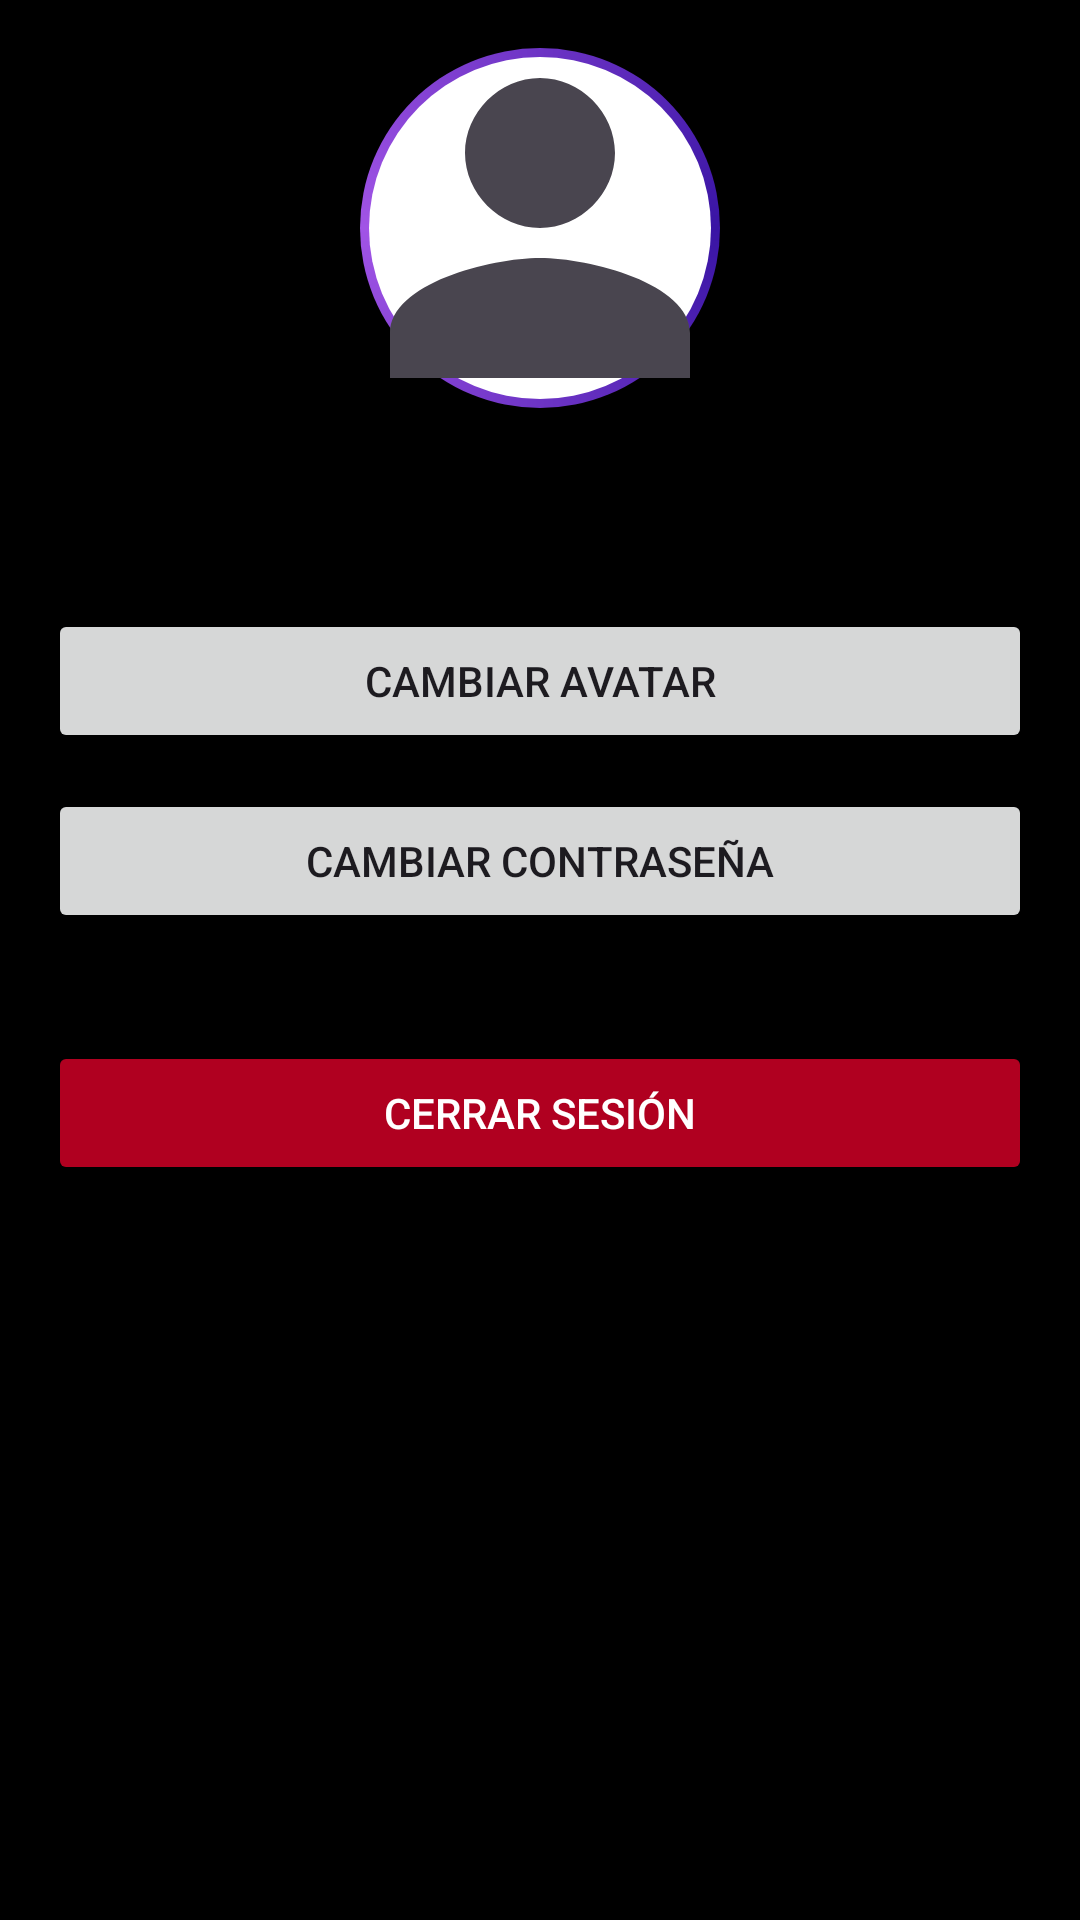

Named icons in this screenshot (1080×1920) and their centers, [x,y]:
Avatar: [540,228]
